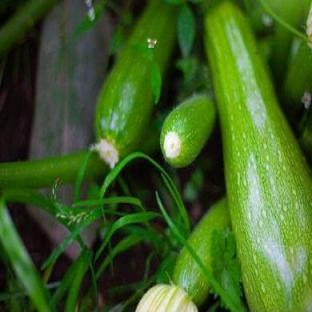Zucchini: (205, 3, 311, 310), (96, 2, 176, 166), (136, 248, 210, 311), (160, 95, 215, 167), (284, 39, 311, 115)
